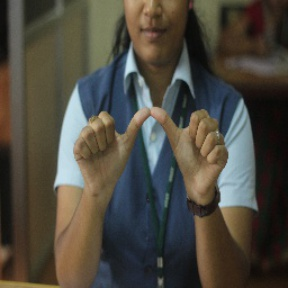A: (72, 105, 231, 181)
